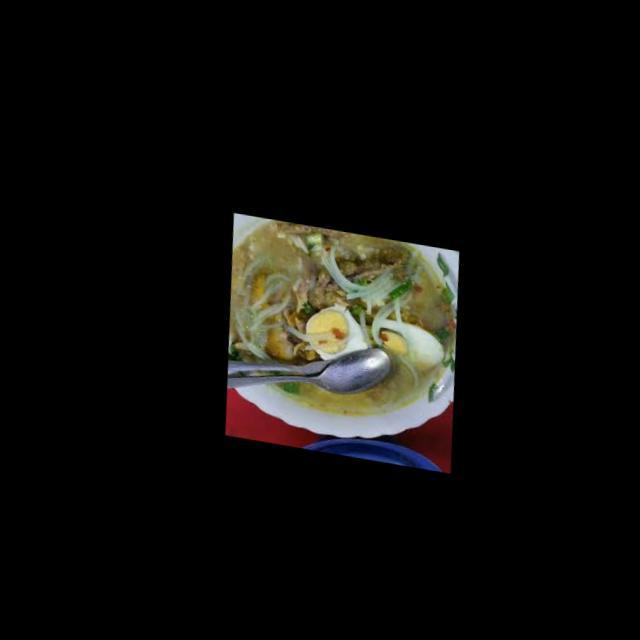Soto: (227, 216, 456, 460)
